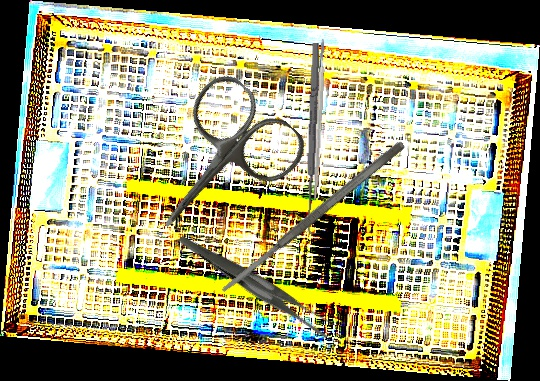Dressing Forceps: (178, 197, 338, 371)
Hook Surgical: (302, 42, 329, 235)
Iris Scissors: (119, 66, 314, 265)
Scalpel Handle: (311, 38, 328, 201)
Spatula Surgical: (216, 138, 408, 297)
